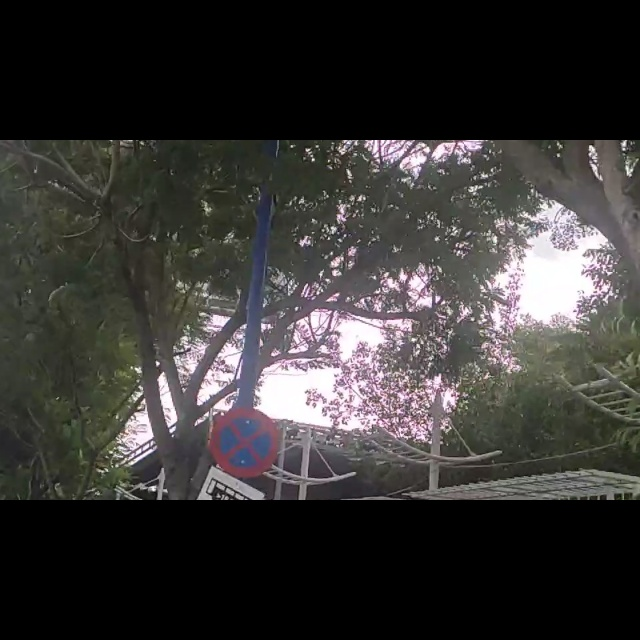bien_cam: (211, 480, 279, 599)
